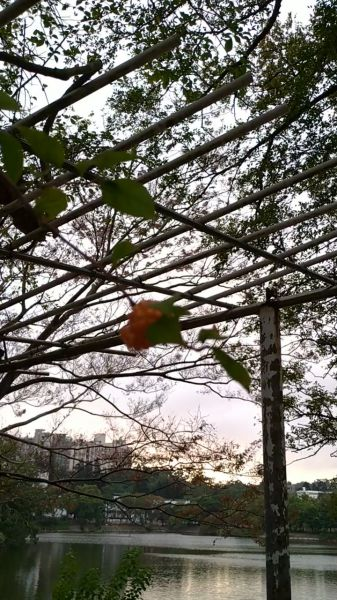eggs: (118, 297, 172, 353)
